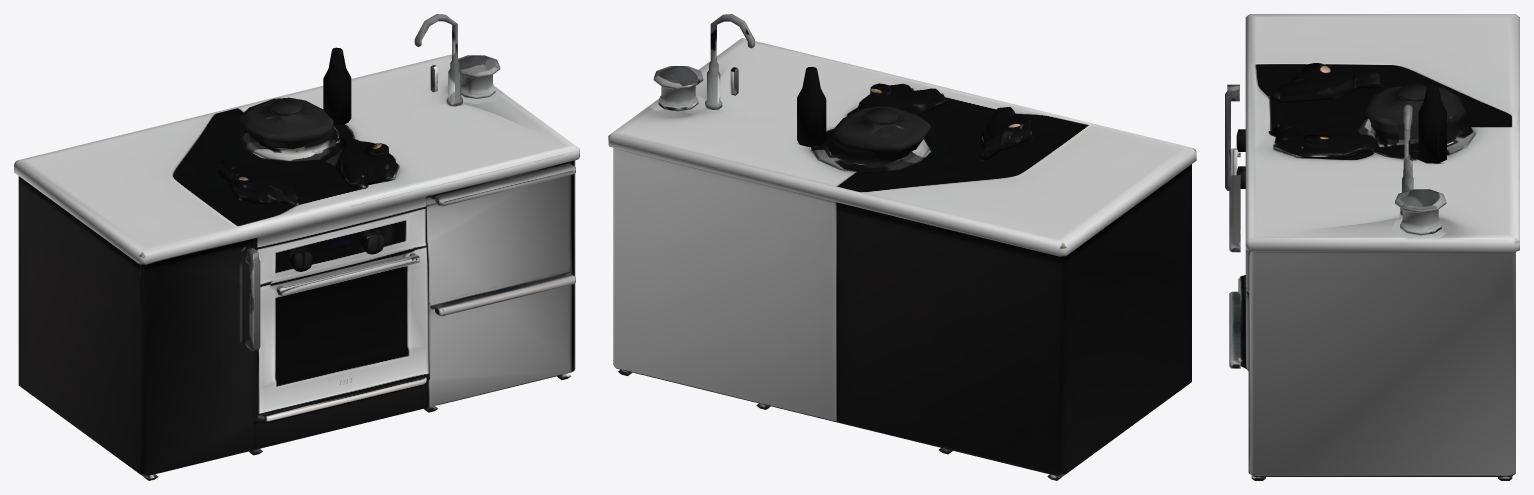
File: zaotai.fbx
3 views of the same model, side by side, from view 1: azimuth 30°, elevation 25°; view 2: azimuth 150°, elevation 25°; view 3: azimuth 270°, elevation 25° (orthographic). The views are drawn at different scales.
Visible parts, largest first — view 1: texture_v100; view 2: texture_v100; view 3: texture_v100.
Boxes of the visible parts, <box> form: texture_v100: <box>14,14,579,480</box>; texture_v100: <box>608,14,1196,480</box>; texture_v100: <box>1225,14,1519,480</box>.
Bounding box in the file's own units: 190 × 134 × 104.
Materials: 1 (1 with a texture image).
